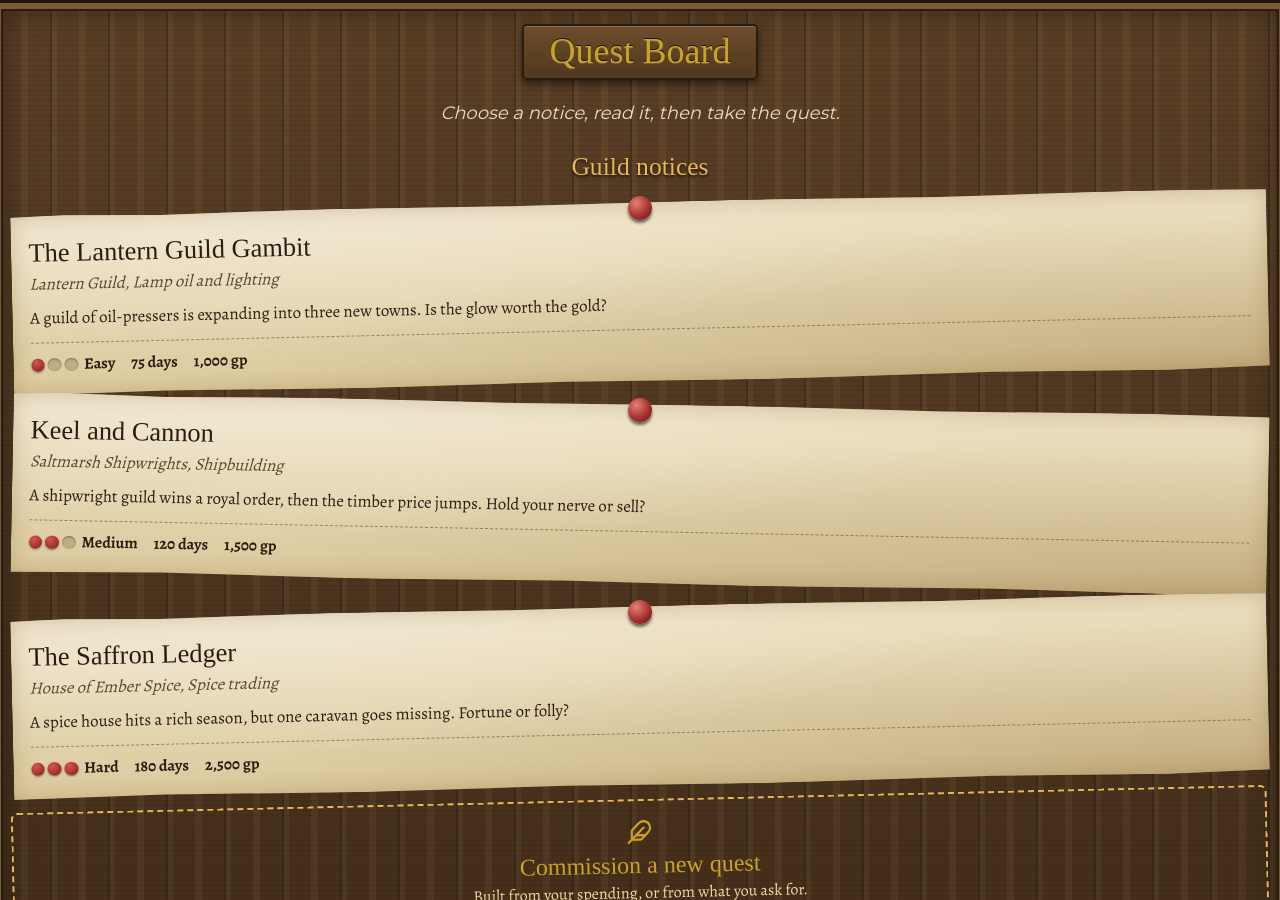
Scenario: QuestBoard › opens a quest, reads its details, and closes it with Close and Esc
Click the button with aria-label "Open quest: The Lantern Guild Gambit" at (640, 292), box x1=10 y1=187 x2=1270 y2=396
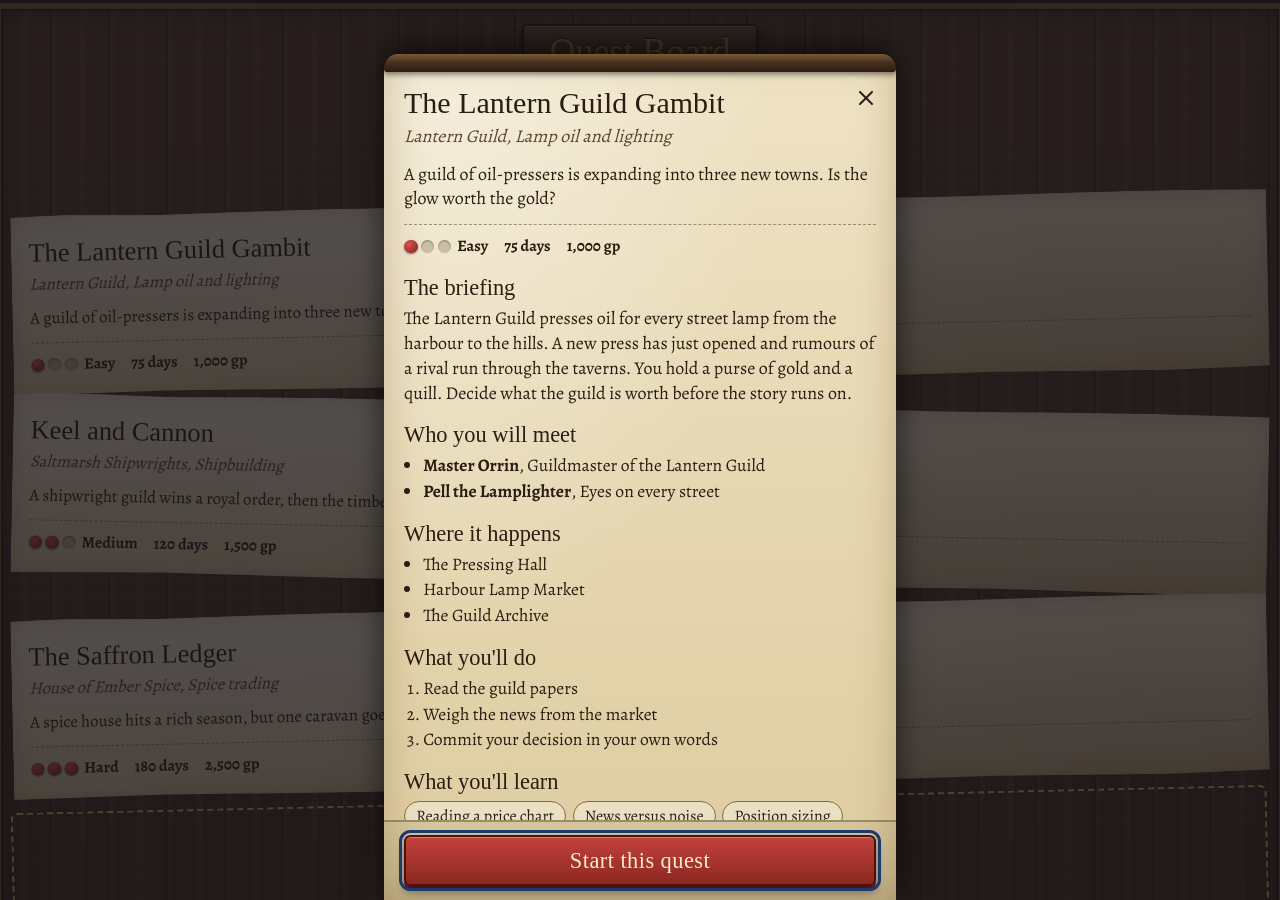
Check: the text "Master Orrin" is shown, box x1=423 y1=453 x2=519 y2=477
Check: the list item "The Pressing Hall" is shown, box x1=423 y1=552 x2=547 y2=576
Check: the list item "Reading a price chart" is shown, box x1=404 y1=801 x2=566 y2=820
Click the button named "Close" at (866, 98), box x1=844 y1=76 x2=888 y2=120
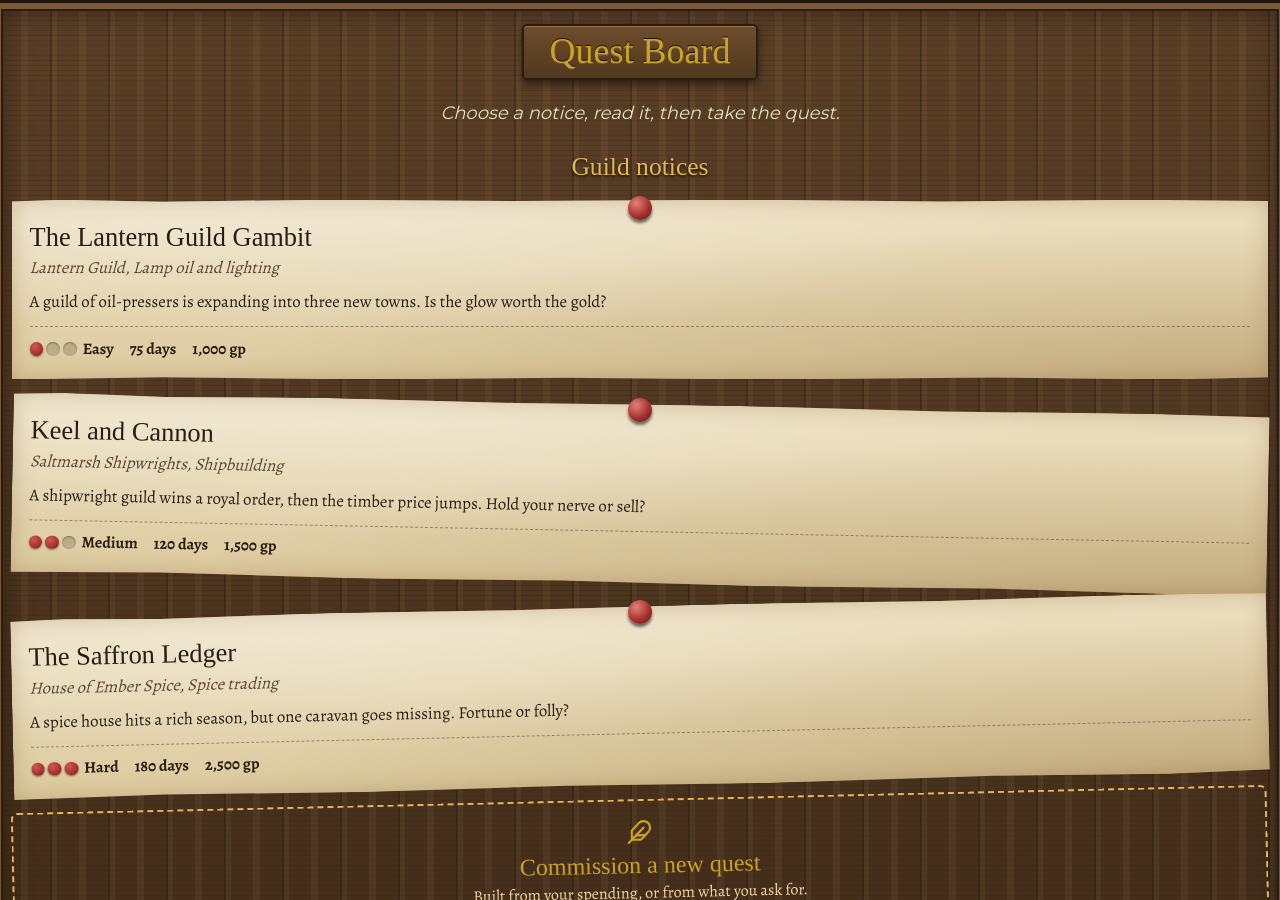
Check: the dialog is gone
Click the button with aria-label "Open quest: The Lantern Guild Gambit" at (640, 290), box x1=12 y1=200 x2=1268 y2=380
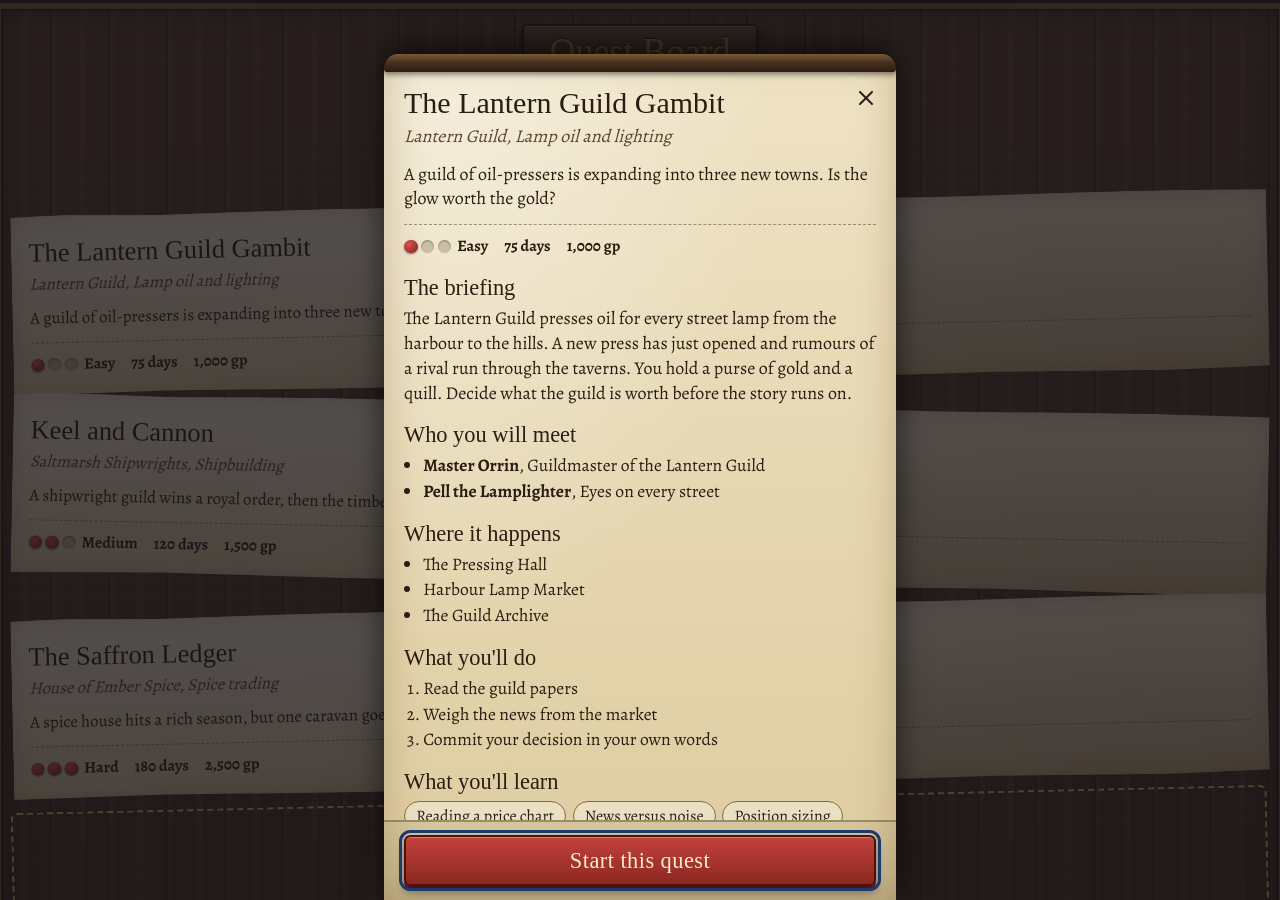
Check: the dialog is shown, box x1=384 y1=54 x2=896 y2=899
Press Escape
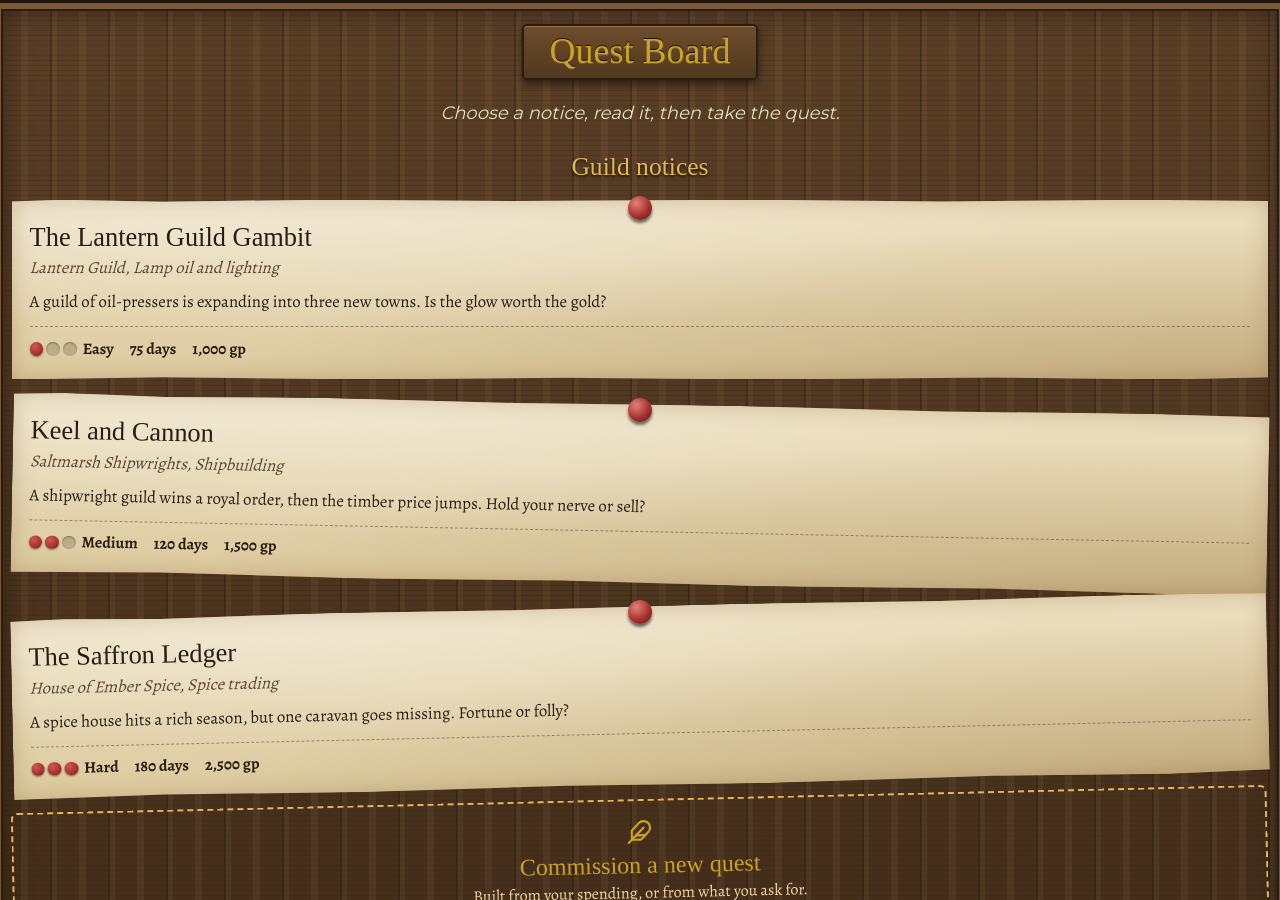
Check: the dialog is gone
